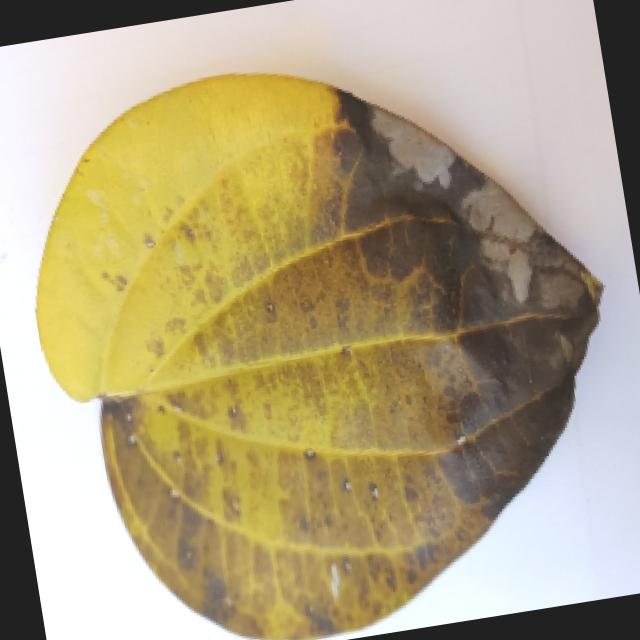slow-decline: (11, 39, 640, 640)
